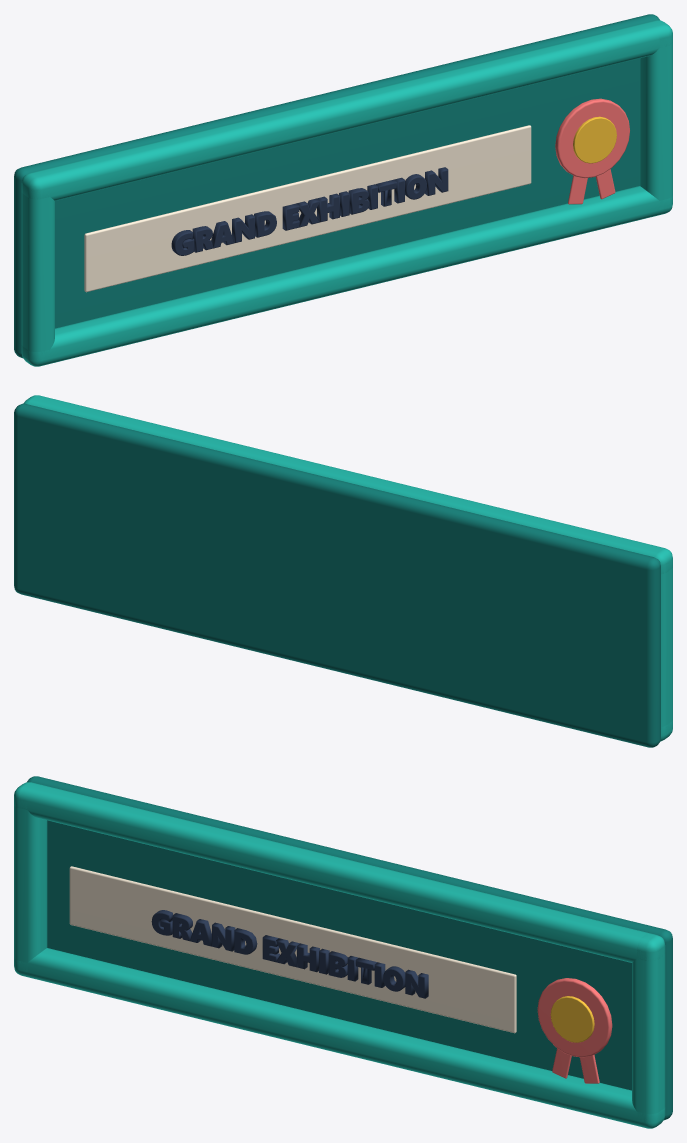
The model's file is ExhibitionSign.fbx.
The picture shows the model from 3 angles, top to bottom: view 1: azimuth 30°, elevation 25°; view 2: azimuth 150°, elevation 25°; view 3: azimuth 330°, elevation 25°; orthographic projection.
Parts seen in each view (by area): view 1: ExhibitionSign mesh; view 2: ExhibitionSign mesh; view 3: ExhibitionSign mesh.
Boxes of the visible parts, x1,y1,x2,y2 form: ExhibitionSign mesh: [14, 14, 672, 366]; ExhibitionSign mesh: [14, 395, 672, 747]; ExhibitionSign mesh: [14, 776, 672, 1128].
Size of the model in its own units: 1.5 by 0.42 by 0.093.
